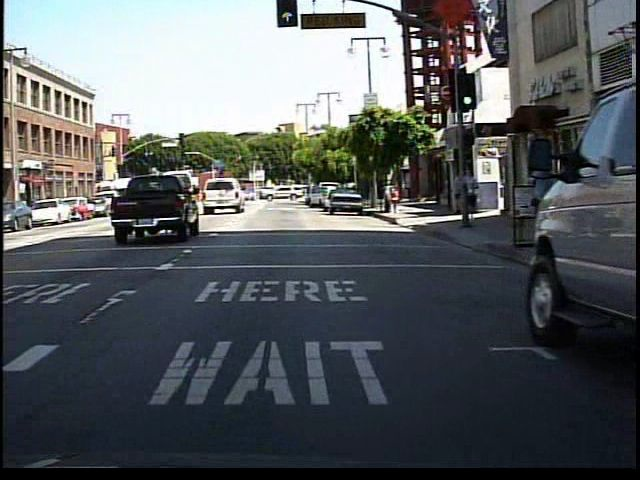person: (457, 161, 480, 228)
